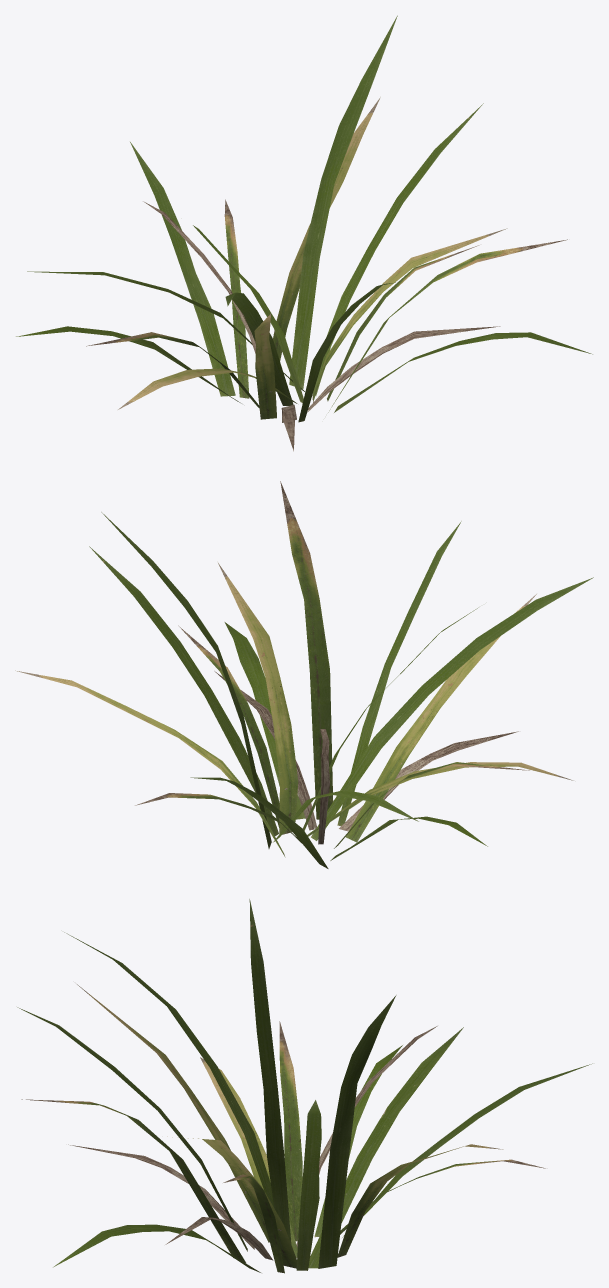
File: SM_Grass.fbx
3 views of the same model, one above another, from view 1: azimuth 30°, elevation 25°; view 2: azimuth 150°, elevation 25°; view 3: azimuth 270°, elevation 25° (orthographic). The views are drawn at different scales.
Visible parts, largest first — view 1: SM_Grass_LOD0; view 2: SM_Grass_LOD0; view 3: SM_Grass_LOD0.
Part boxes in pixels (bbox=[...]): SM_Grass_LOD0: bbox=[16, 15, 592, 451]; SM_Grass_LOD0: bbox=[15, 481, 593, 868]; SM_Grass_LOD0: bbox=[17, 899, 592, 1273].
Bounding box in the file's own units: 39.05 × 42.11 × 27.52.
1 material, 1 textured.
